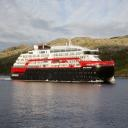cruises: (11, 36, 117, 85)
